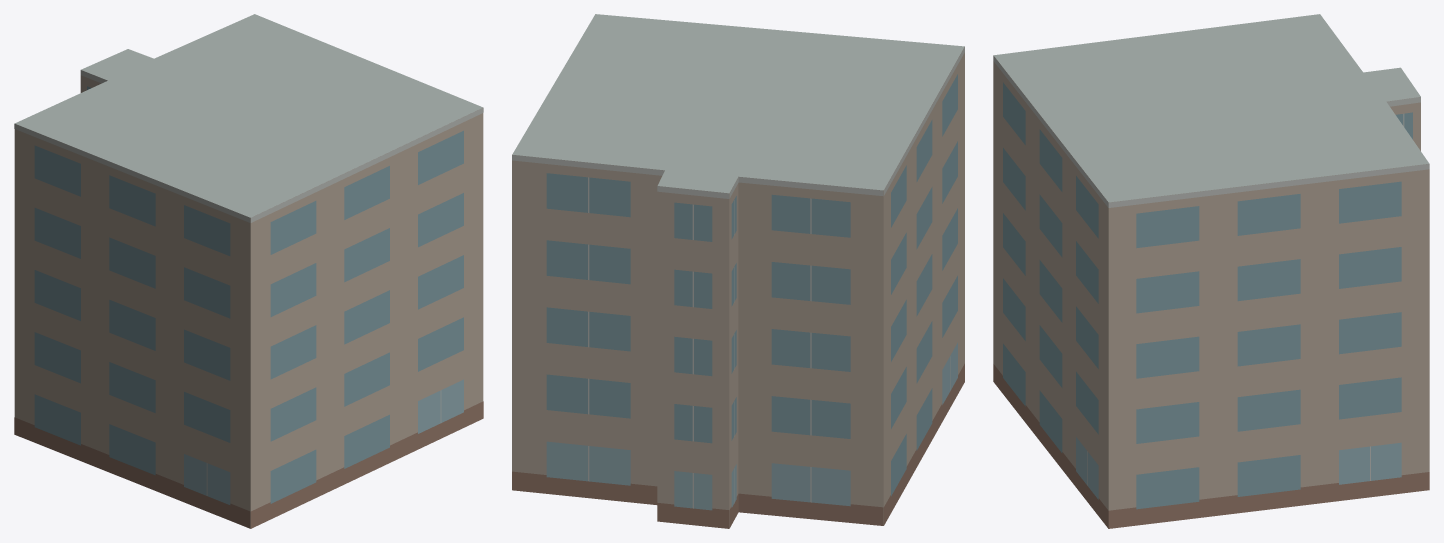
Rendered from survey-upis-32560854.glb.
3 renders of one model, left to right at view 1: azimuth 30°, elevation 25°; view 2: azimuth 150°, elevation 25°; view 3: azimuth 270°, elevation 25°, orthographic. The views are drawn at different scales.
Visible parts, largest first — view 1: survey-upis-32560854.tmp; view 2: survey-upis-32560854.tmp; view 3: survey-upis-32560854.tmp.
Part boxes in pixels (x1,y1,x2,y2): survey-upis-32560854.tmp: (14,14,483,528); survey-upis-32560854.tmp: (512,14,964,528); survey-upis-32560854.tmp: (993,14,1429,528).
Size of the model in its own units: 17.6 by 14.2 by 17.21.
